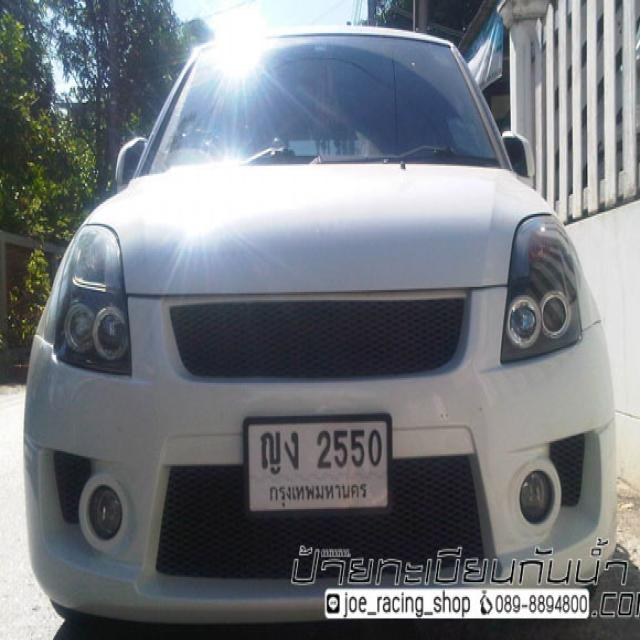license_plate: (242, 413, 394, 520)
